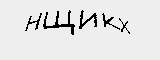Ж: (11, 17, 42, 33)
З: (90, 21, 104, 37)
Л: (123, 20, 141, 38)
Р: (77, 18, 90, 34)
Щ: (46, 18, 80, 38)
Ұ: (105, 19, 122, 37)
